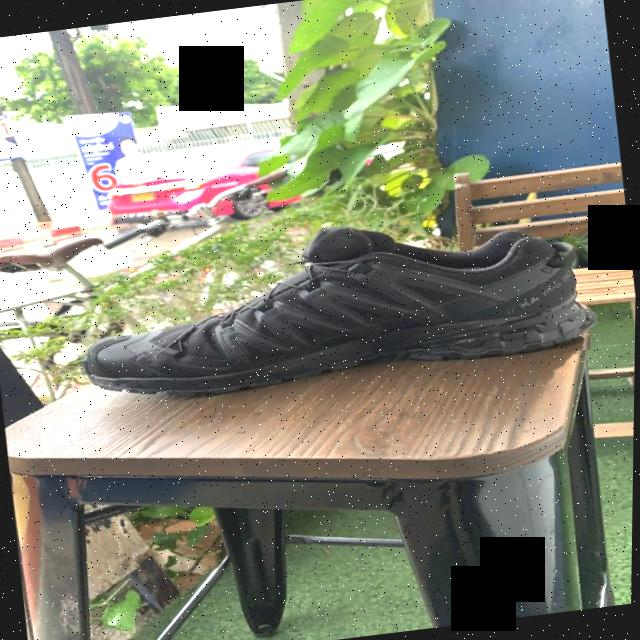shoe: (66, 192, 604, 410)
